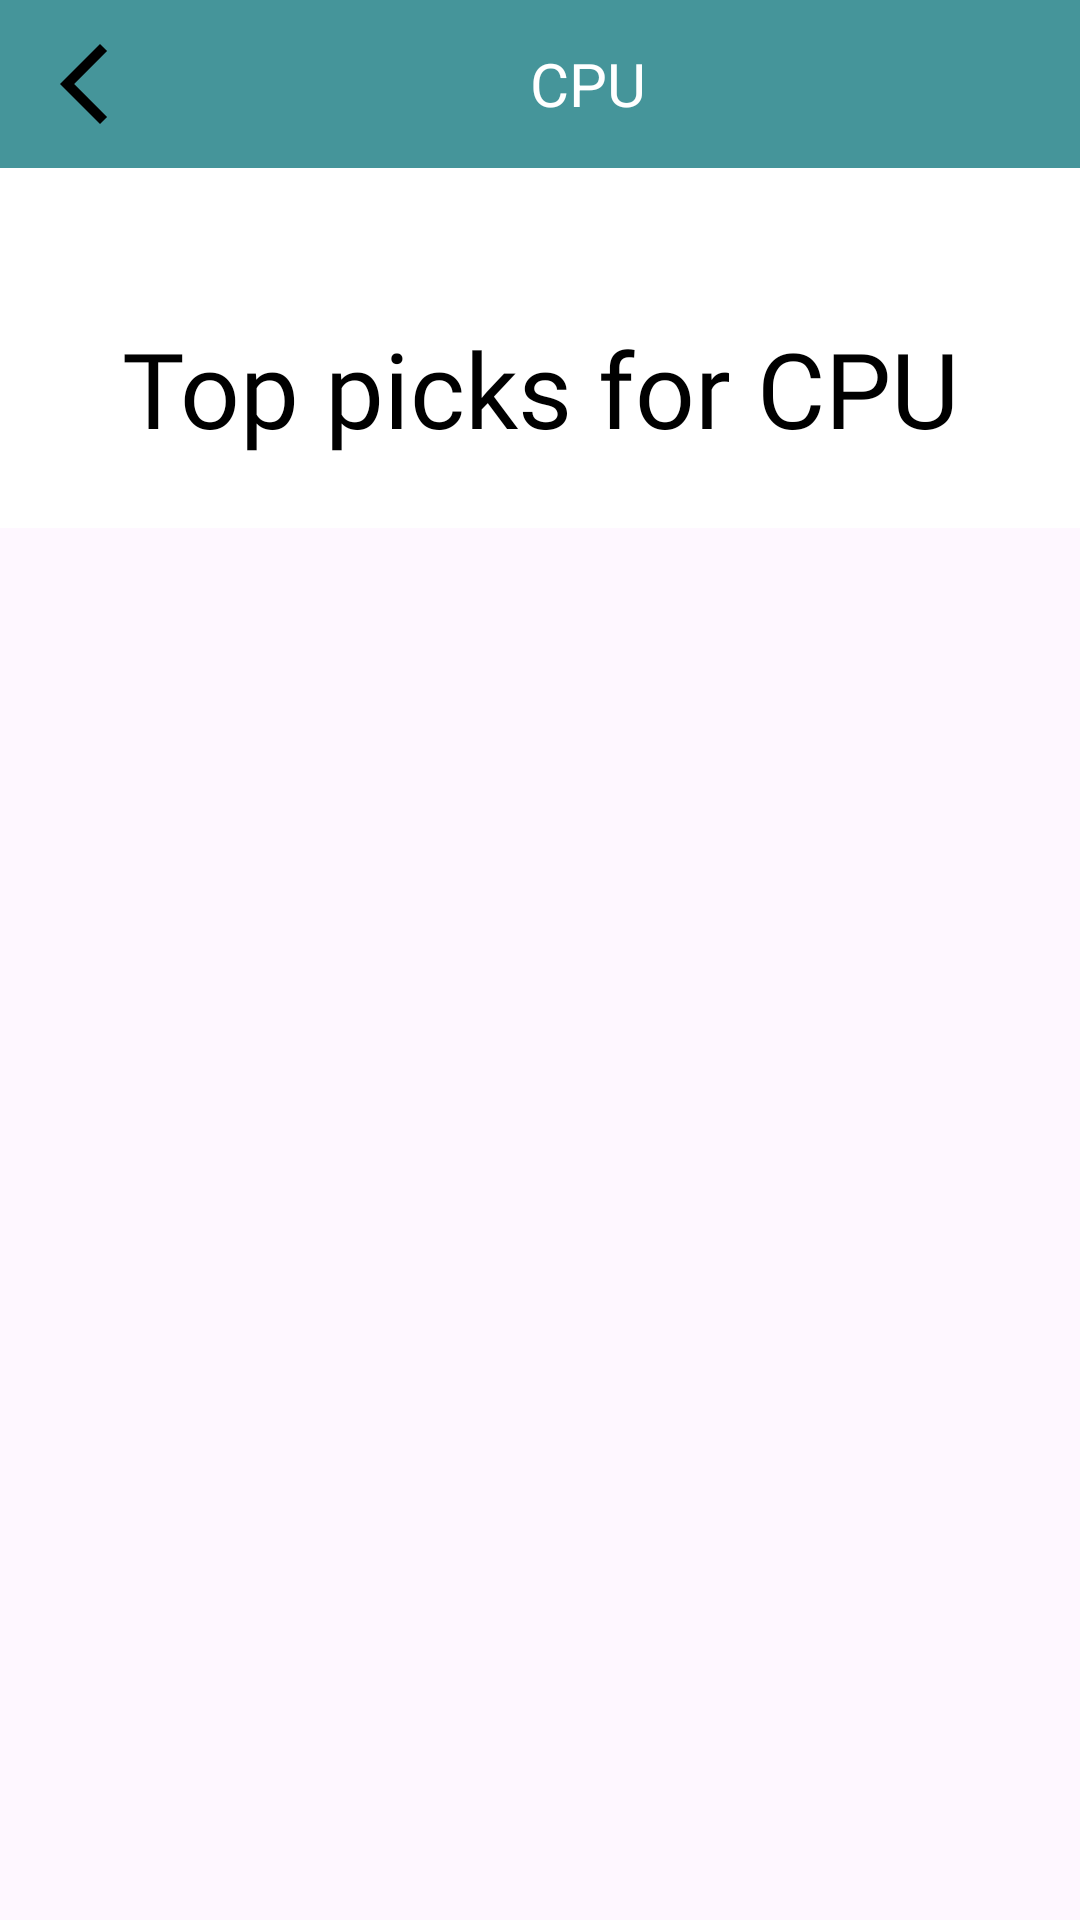

Icons on this 1080×1920 Android screen, each with its box as {"x1": x1, "y1": y1, "x2": x2, "y2": y2}:
Back: {"x1": 60, "y1": 44, "x2": 107, "y2": 124}
